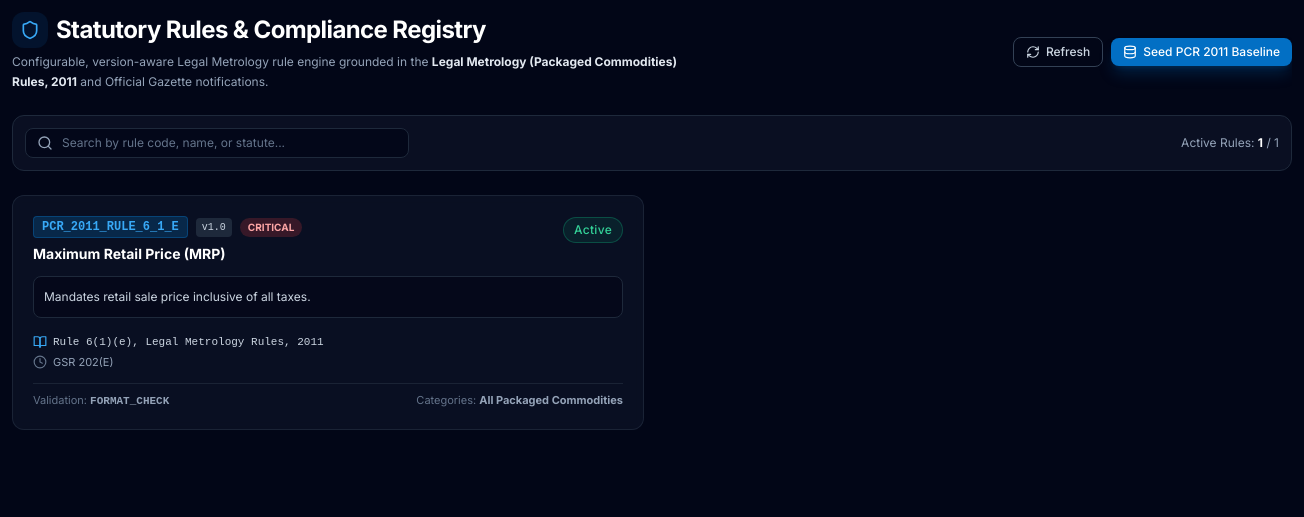
it: RuleManagement Component › renders statutory rule cards and allows searching and baseline seeding
Check: the heading "Statutory Rules & Compliance Registry" is shown, box [56,14,486,46]
Check: the text "PCR_2011_RULE_6_1_E" is shown, box [33,216,188,238]
# Test Search input
In the field with placeholder "Search by rule code, name, or statute...": (217, 143) [25,128,409,158], type "MRP"
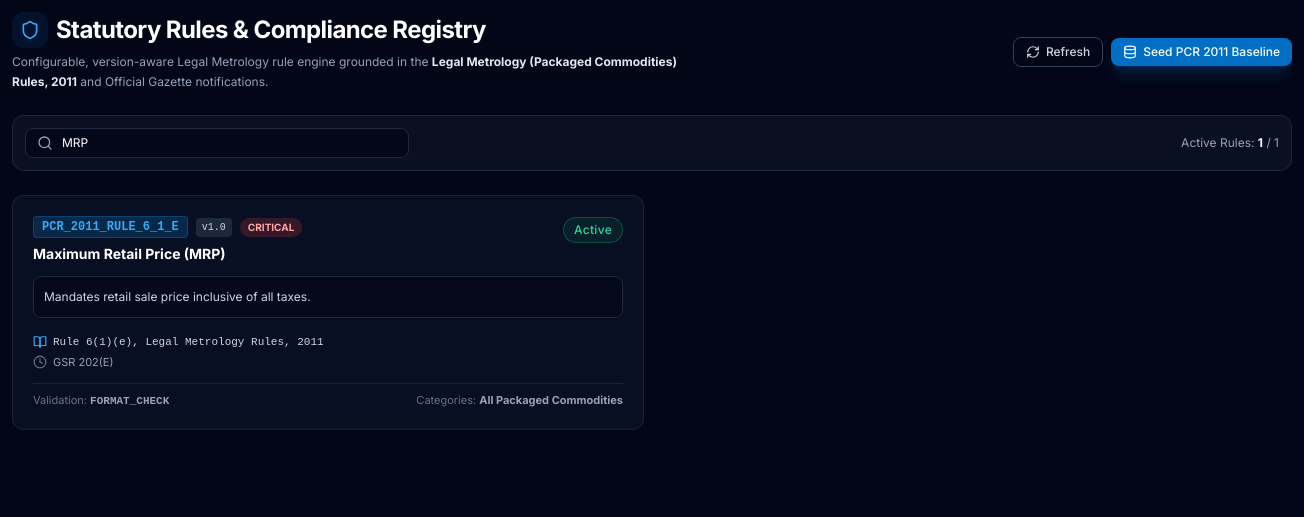
Check: the text "PCR_2011_RULE_6_1_E" is shown, box [33,216,188,238]
# Test Seed Baseline button
Click the button "Seed PCR 2011 Baseline": click(1202, 52) [1111,38,1292,66]
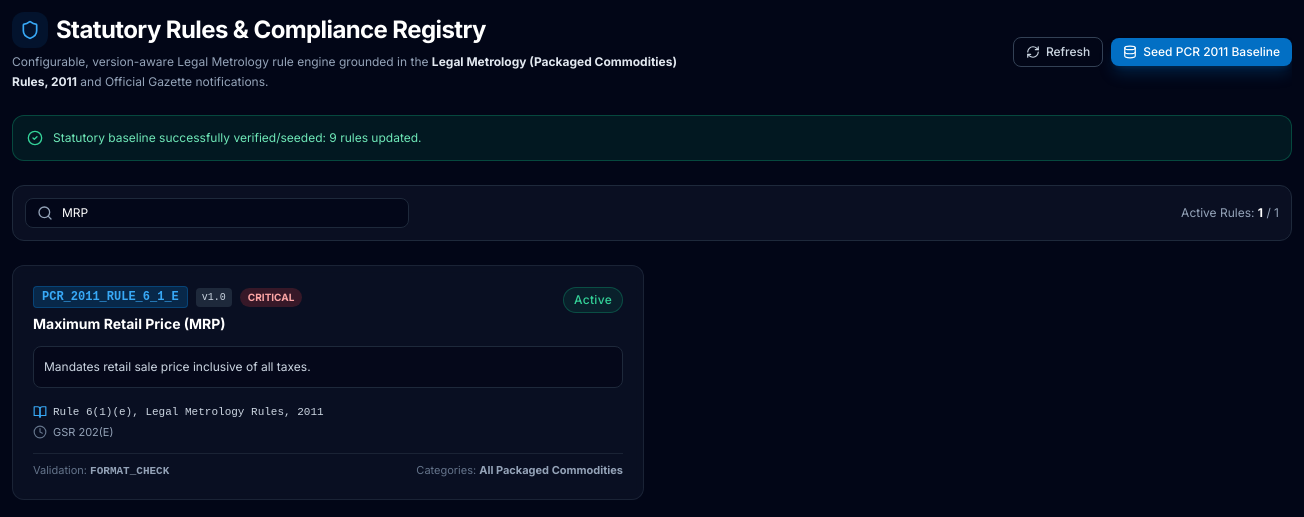
Check: the text "Statutory baseline successfully verified/seeded: 9 rules updated" is shown, box [53,130,422,145]
